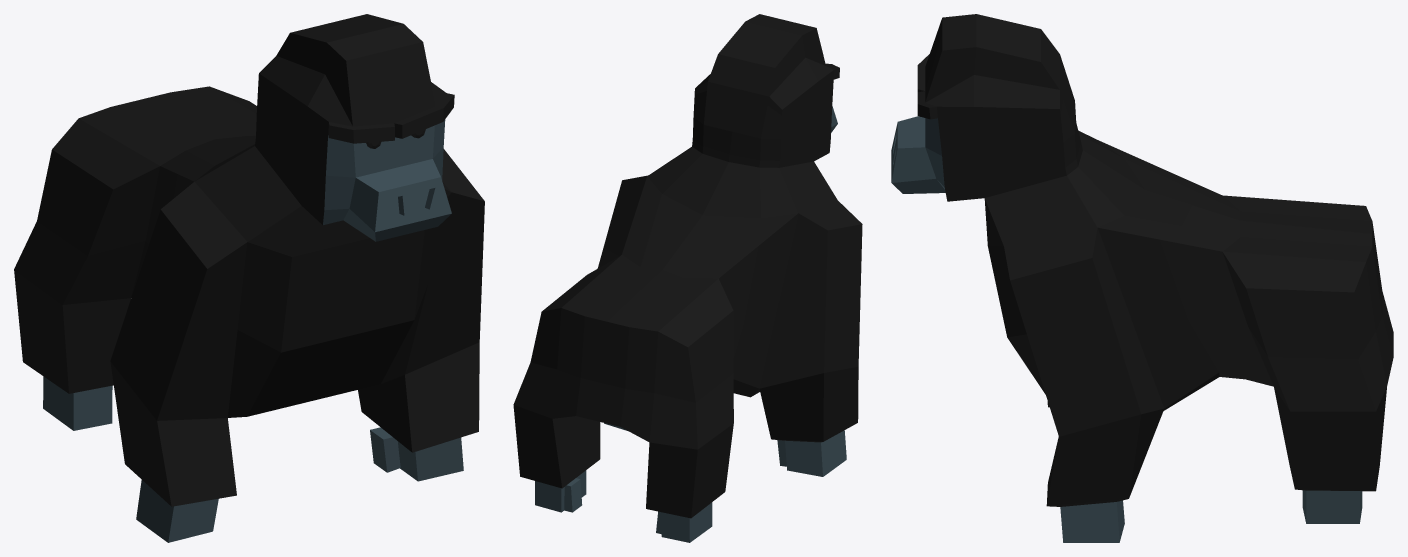
Rendered from Gorilla_01.fbx.
3 renders of one model, left to right at view 1: azimuth 30°, elevation 25°; view 2: azimuth 150°, elevation 25°; view 3: azimuth 270°, elevation 25°, orthographic. The views are drawn at different scales.
Visible parts, largest first — view 1: Gorilla_01; view 2: Gorilla_01; view 3: Gorilla_01.
Part boxes in pixels (x1,y1,x2,y2): Gorilla_01: (14, 14, 484, 542); Gorilla_01: (513, 14, 862, 542); Gorilla_01: (891, 14, 1393, 542).
Size of the model in its own units: 9.58 by 14.48 by 14.66.
